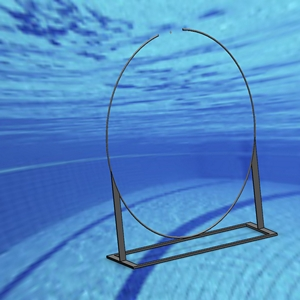circle: (104, 26, 278, 271)
